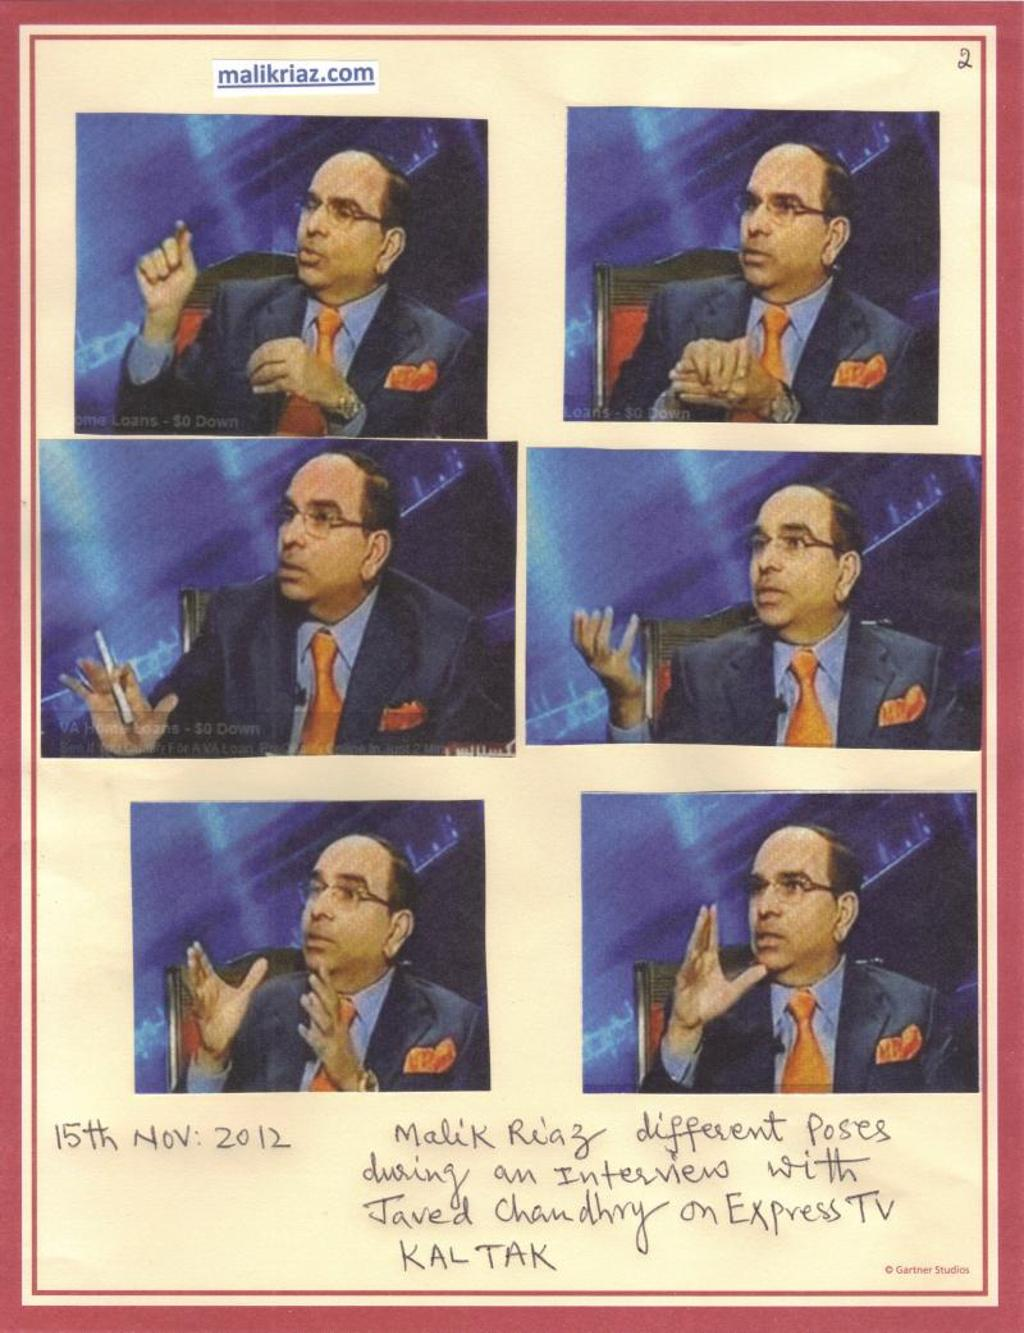face: (737, 133, 828, 284), (276, 456, 370, 602), (302, 823, 393, 974), (297, 149, 386, 290), (750, 485, 831, 628), (753, 818, 826, 974)
